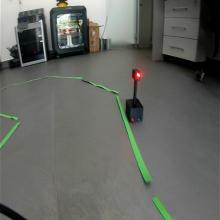red: (132, 68, 142, 81)
